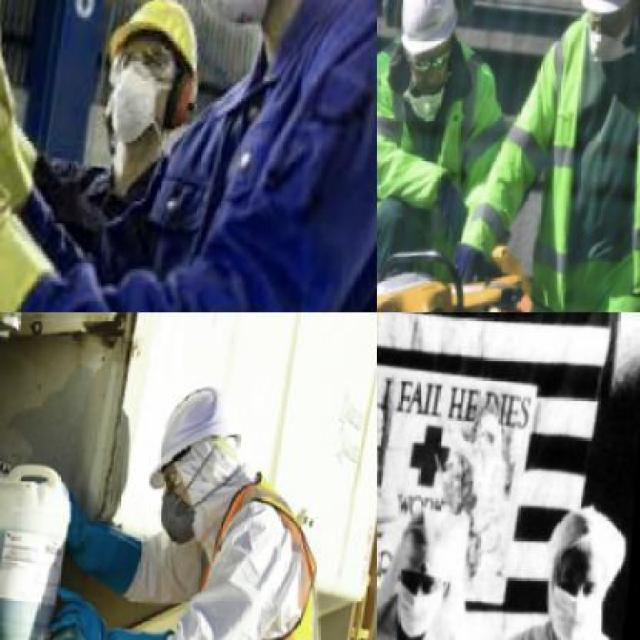vest: (483, 9, 639, 311), (146, 471, 368, 638), (377, 46, 506, 265)
